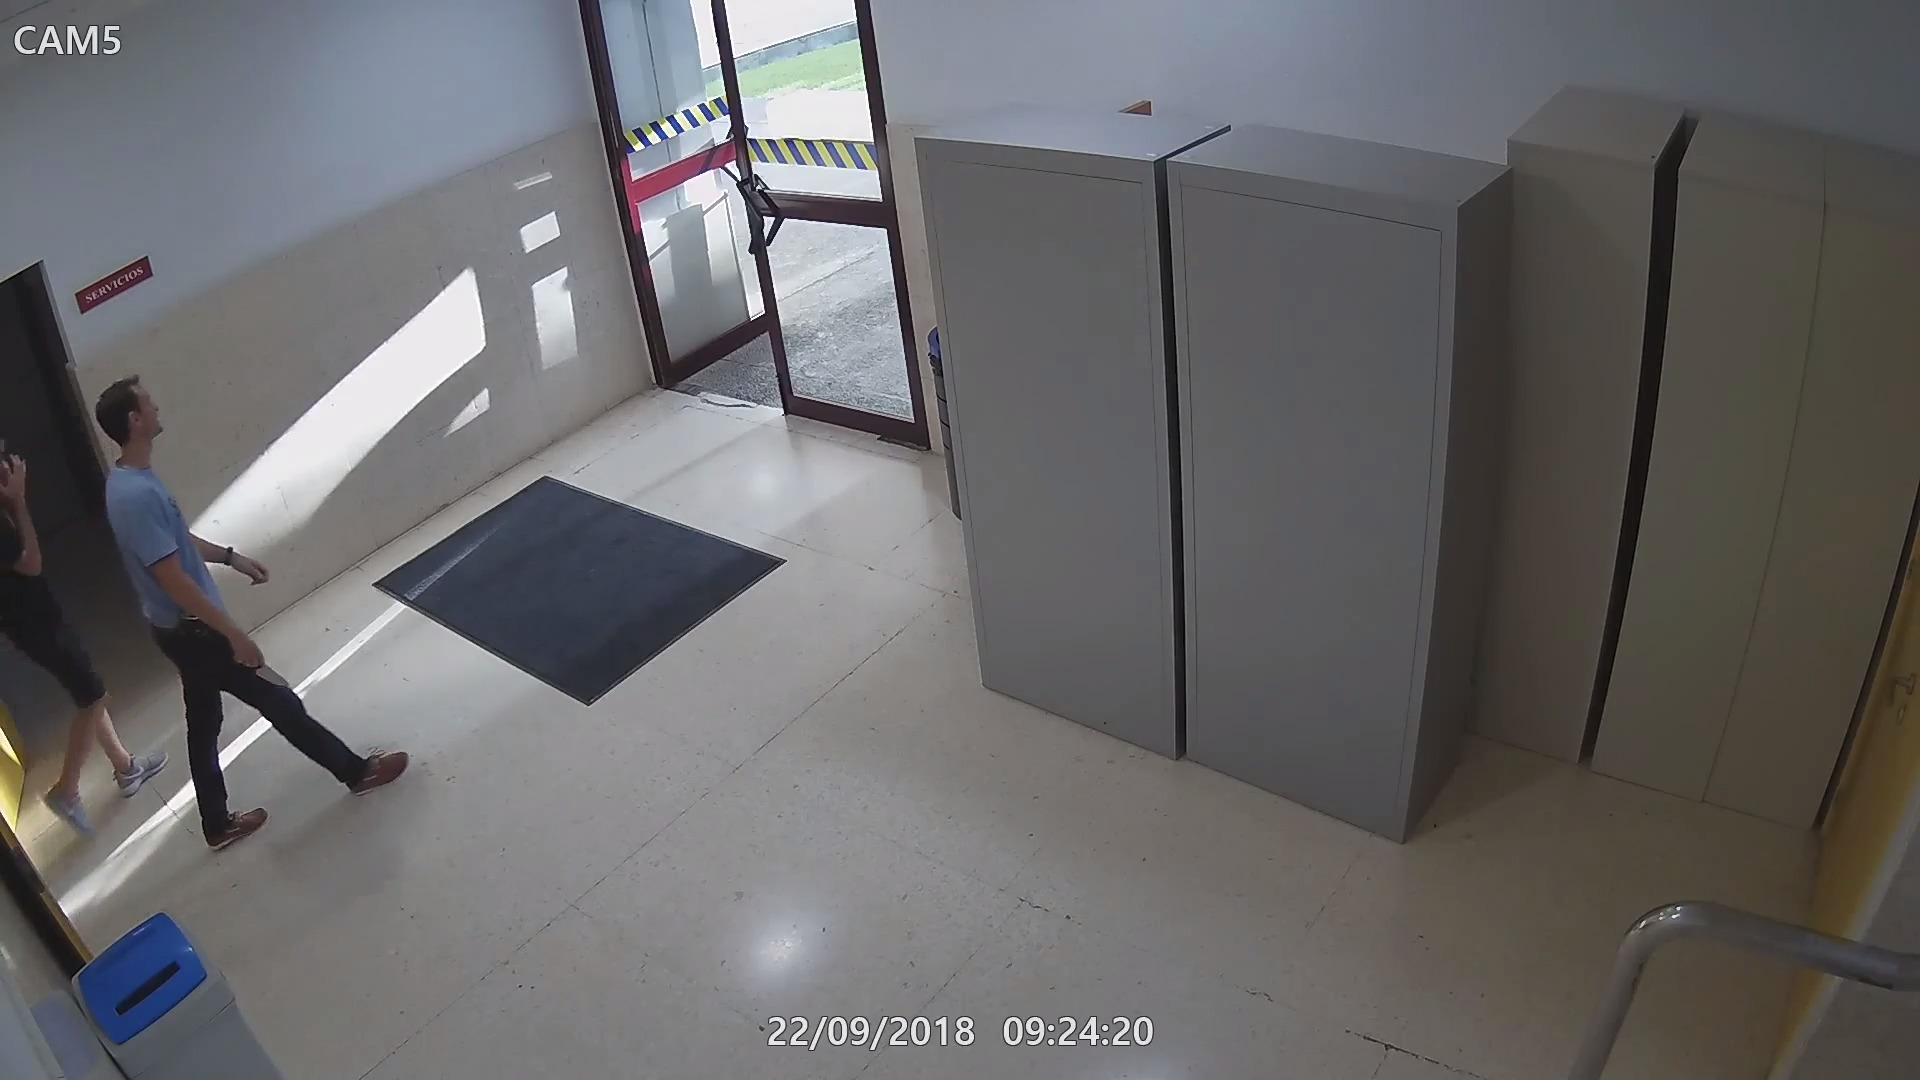Handgun: (177, 613, 222, 669)
Knife: (223, 625, 297, 694)
